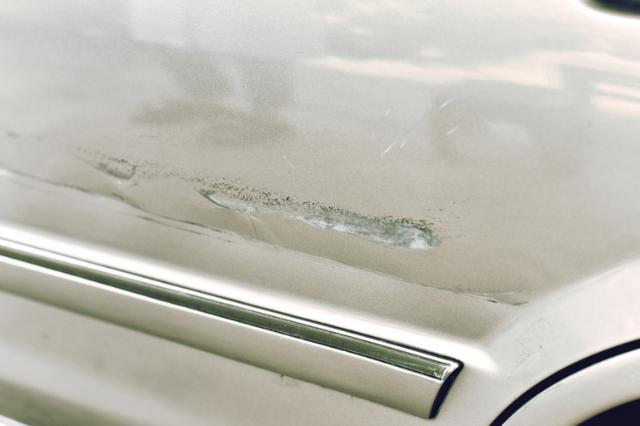Door: (6, 120, 547, 360)
